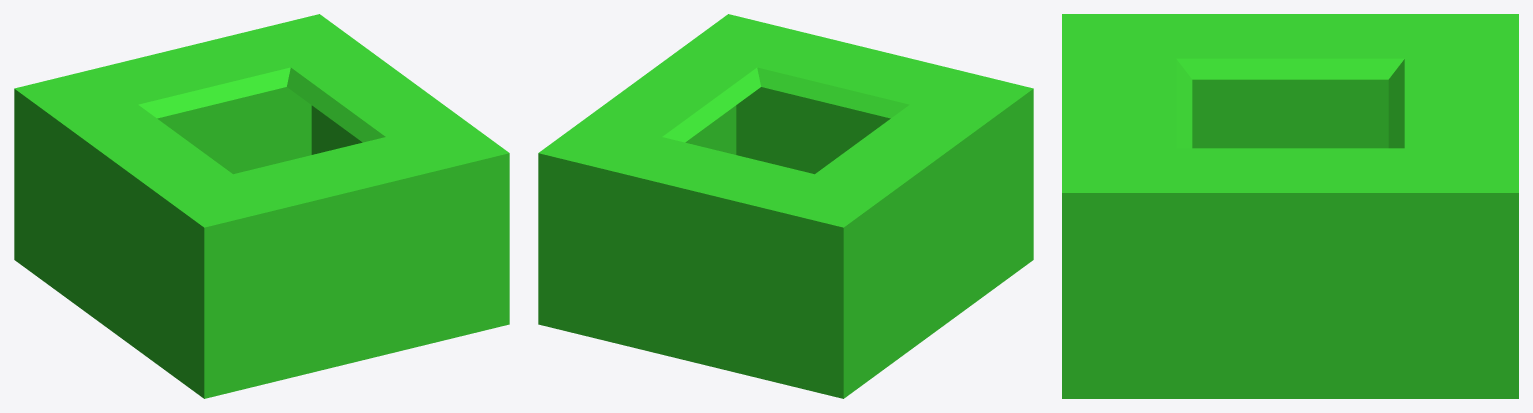
File: point-pinhole-cube.dae
The picture shows the model from 3 angles, left to right: view 1: azimuth 30°, elevation 25°; view 2: azimuth 150°, elevation 25°; view 3: azimuth 270°, elevation 25°; orthographic projection. The views are drawn at different scales.
Visible parts, largest first — view 1: Container; view 2: Container; view 3: Container.
Part boxes in pixels (x1,y1,x2,y2): Container: (14, 14, 509, 398); Container: (538, 14, 1033, 398); Container: (1062, 14, 1518, 398).
Size of the model in its own units: 17.73 by 19.11 by 9.5.
